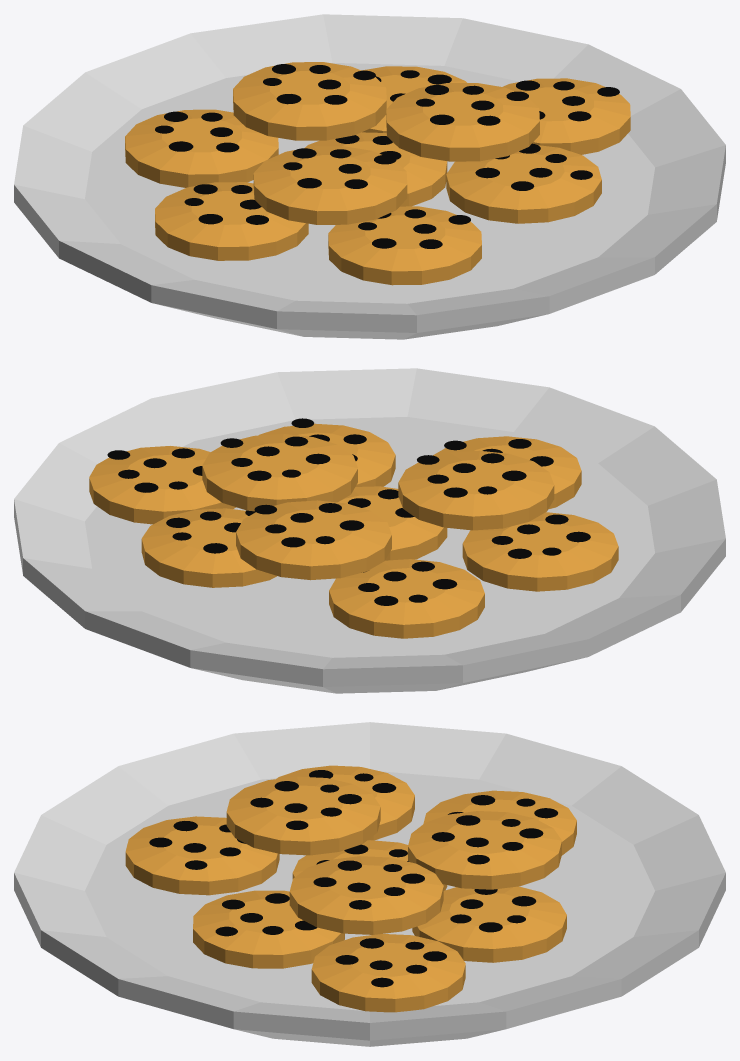
File: cookies.fbx
3 views of the same model, one above another, from view 1: azimuth 30°, elevation 25°; view 2: azimuth 150°, elevation 25°; view 3: azimuth 270°, elevation 25° (orthographic).
Parts seen in each view (by area): view 1: Cylinder, Cylinder.010, Cylinder.009, Cylinder.008, Cylinder.006, Cylinder.003, Cylinder.005, Cylinder.004, Cylinder.007, Cylinder.001, Cylinder.002; view 2: Cylinder, Cylinder.010, Cylinder.008, Cylinder.005, Cylinder.004, Cylinder.009, Cylinder.007, Cylinder.002, Cylinder.001, Cylinder.006, Cylinder.003; view 3: Cylinder, Cylinder.010, Cylinder.009, Cylinder.007, Cylinder.008, Cylinder.006, Cylinder.002, Cylinder.003, Cylinder.005, Cylinder.004, Cylinder.001.
Boxes of the visible parts, x1,y1,x2,y2 form: Cylinder: (14,14,725,339); Cylinder.010: (253,146,407,224); Cylinder.009: (386,83,539,161); Cylinder.008: (233,62,386,140); Cylinder.006: (328,206,481,285); Cylinder.003: (446,143,601,223); Cylinder.005: (125,109,278,187); Cylinder.004: (155,182,308,260); Cylinder.007: (503,78,630,154); Cylinder.001: (304,132,447,206); Cylinder.002: (361,66,466,132); Cylinder: (14,368,725,693); Cylinder.010: (398,450,554,530); Cylinder.008: (236,500,391,580); Cylinder.005: (329,559,484,638); Cylinder.004: (462,512,618,591); Cylinder.009: (202,434,357,511); Cylinder.007: (89,446,235,524); Cylinder.002: (141,508,276,587); Cylinder.001: (337,486,447,560); Cylinder.006: (433,436,581,509); Cylinder.003: (258,418,395,486); Cylinder: (14,722,725,1046); Cylinder.010: (226,776,380,855); Cylinder.009: (289,856,443,934); Cylinder.007: (311,934,465,1012); Cylinder.008: (408,811,561,889); Cylinder.006: (125,816,279,895); Cylinder.002: (412,886,566,962); Cylinder.003: (193,890,344,968); Cylinder.005: (423,790,576,855); Cylinder.004: (276,765,414,840); Cylinder.001: (292,840,447,890).
Bounding box in the file's own units: 200 × 32.3 × 200.
